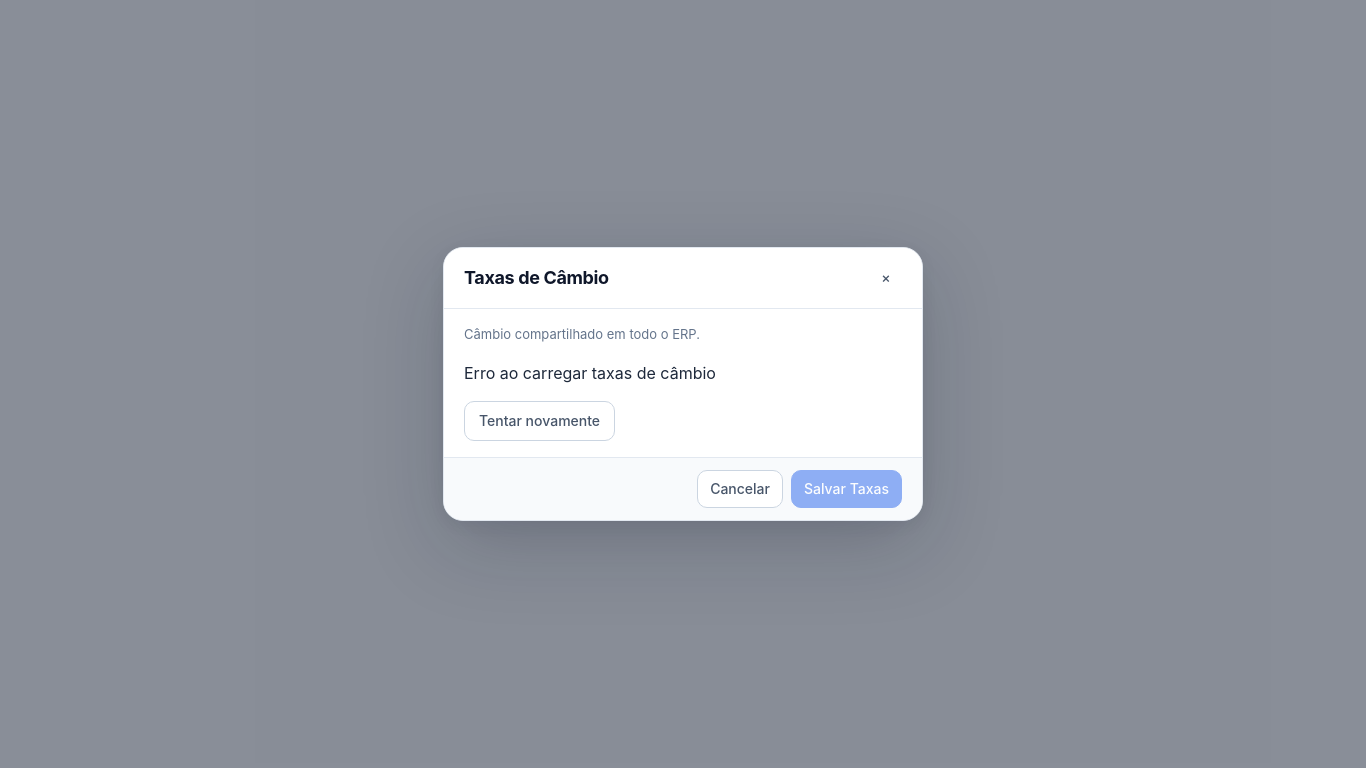
it: shows a recoverable load error, without enabling save with cached defaults
Expected: the submit button is disabled, 791,470 -> 902,508
Click the button "Tentar novamente": (540, 421) 464,401 -> 615,441
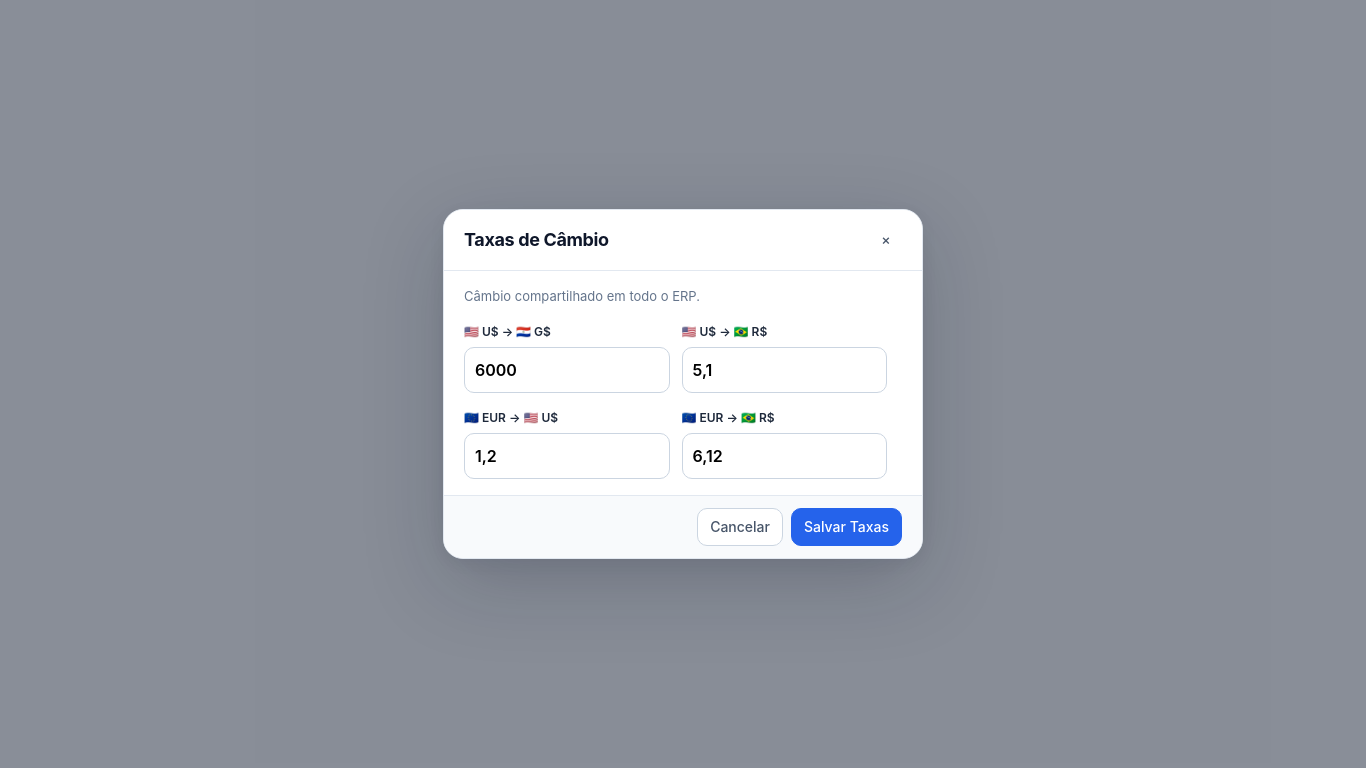
Result: the field labelled "🇺🇸 U$ → 🇵🇾 G$" holds "6000" at 464,347 -> 670,393
